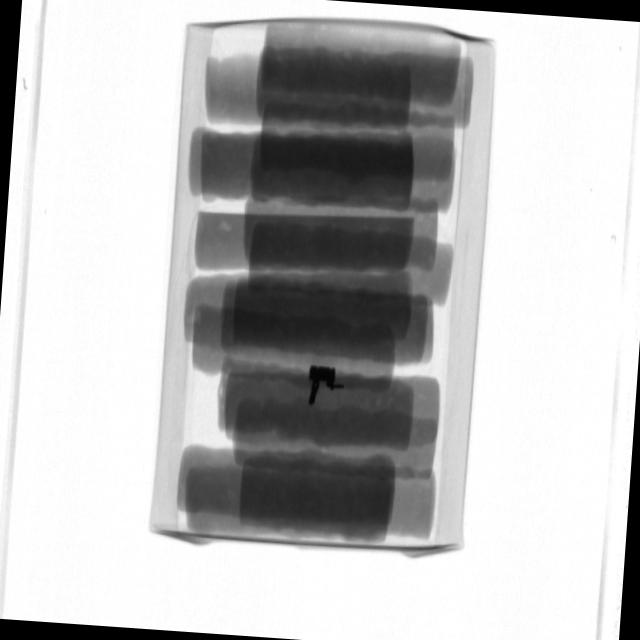ym: (307, 364, 346, 407)
